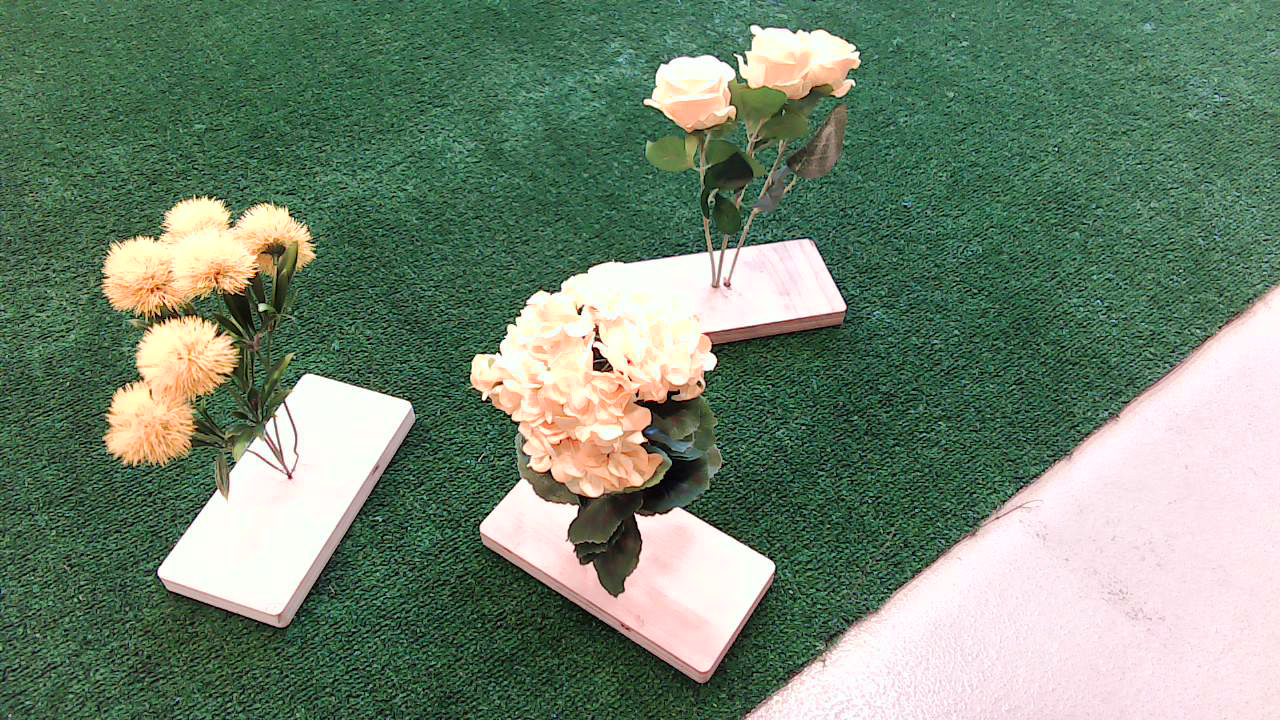dandelion: (71, 192, 359, 510)
geranium: (486, 257, 738, 567)
rose: (636, 19, 883, 246)
